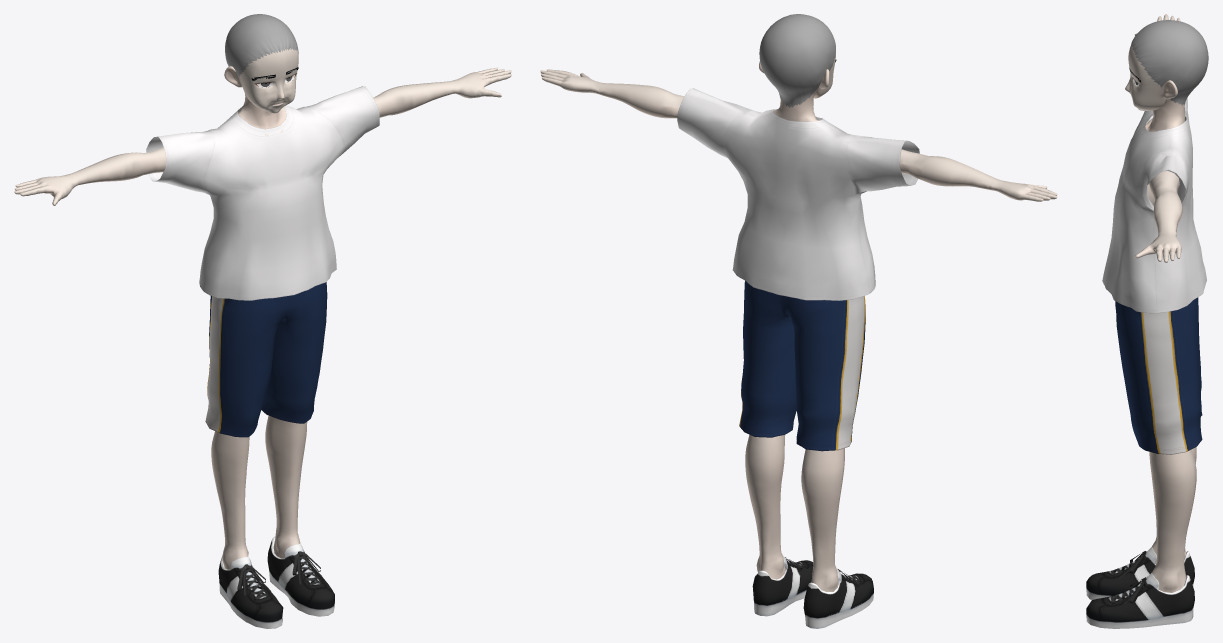
The model's file is Old Male.fbx.
3 views of the same model, side by side, from view 1: azimuth 30°, elevation 25°; view 2: azimuth 150°, elevation 25°; view 3: azimuth 270°, elevation 25° (orthographic). The views are drawn at different scales.
Parts seen in each view (by area): view 1: Body; view 2: Body; view 3: Body.
Boxes of the visible parts, bbox=[...] form: Body: bbox=[14, 14, 511, 628]; Body: bbox=[540, 14, 1057, 628]; Body: bbox=[1086, 14, 1208, 628].
Bounding box in the file's own units: 1.9 × 2.1 × 0.3977.
Materials: 12 (12 with a texture image).
